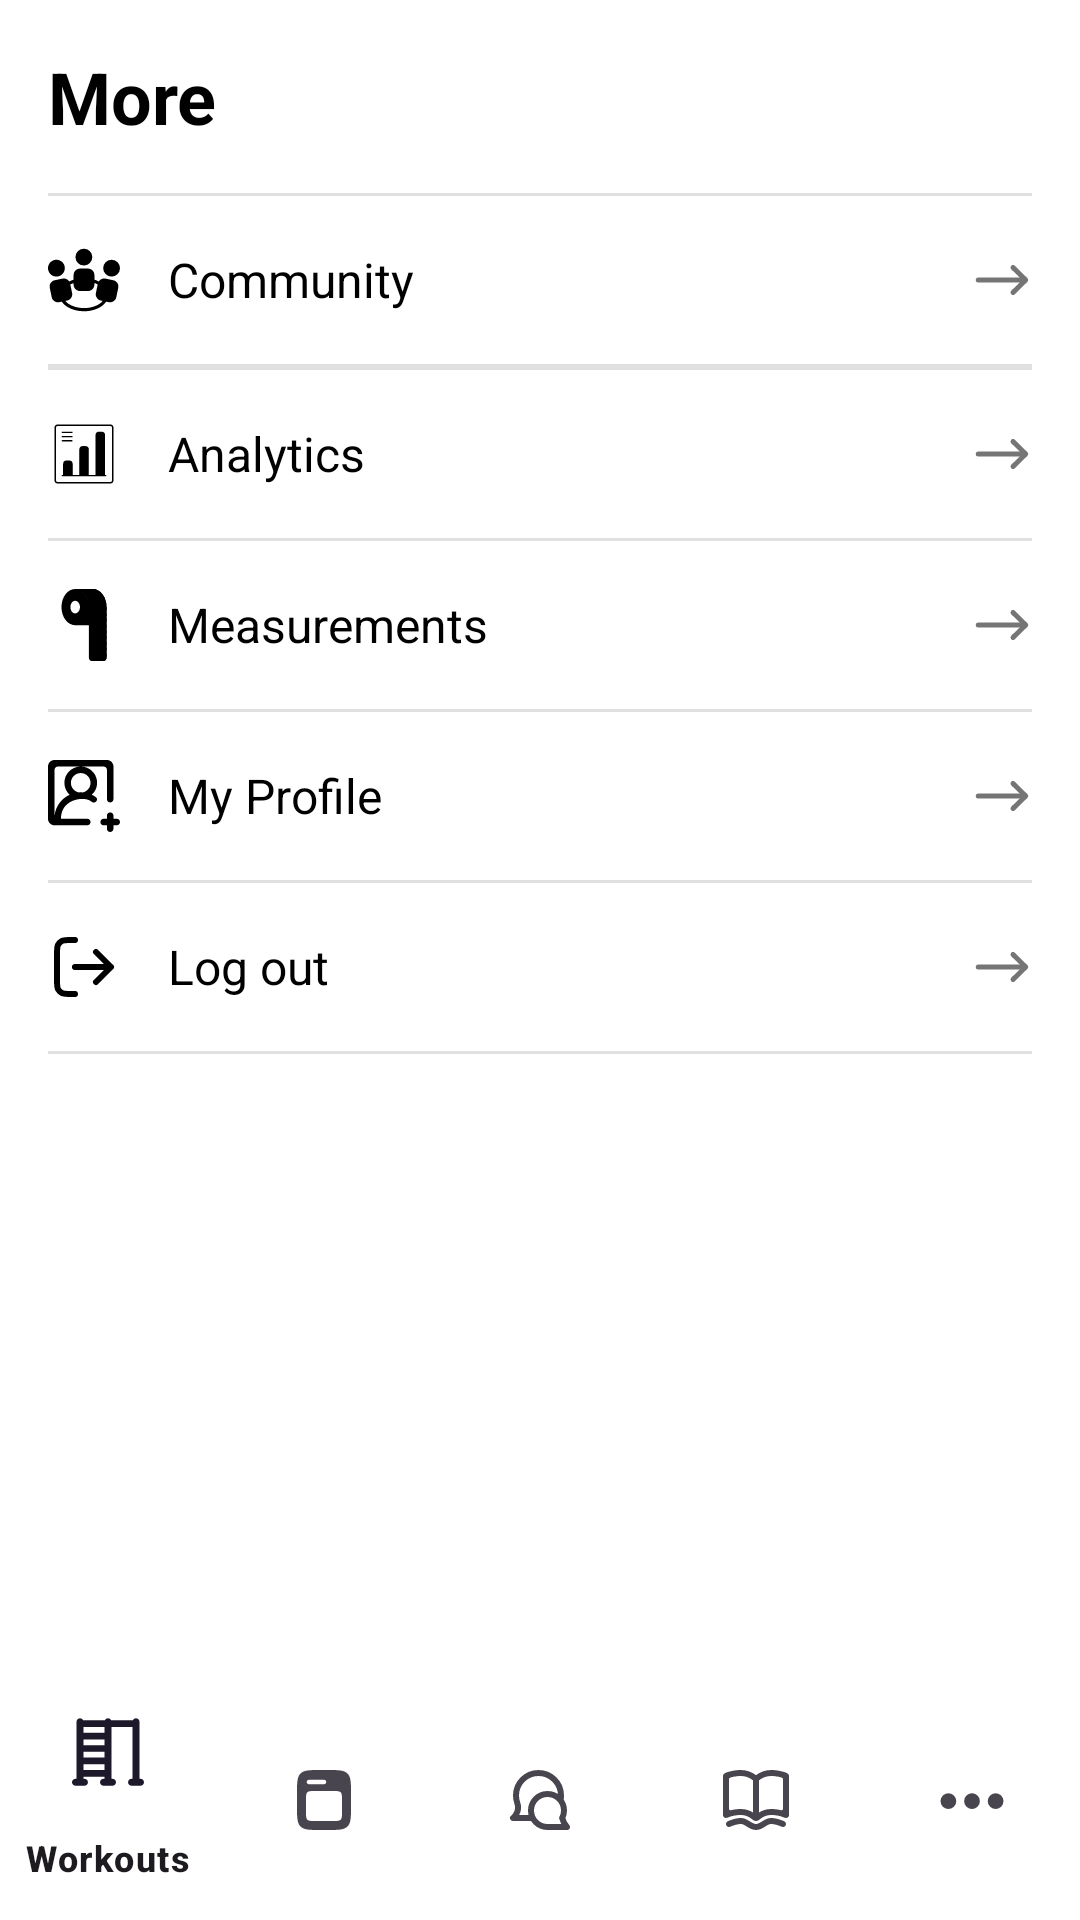

Point at icon controls on the screen. Image size 1080 x 1920, points as [x,y].
analysis: [84,454]
arror right: [1002,280], [1002,454], [1002,625], [1002,796], [1002,967]
